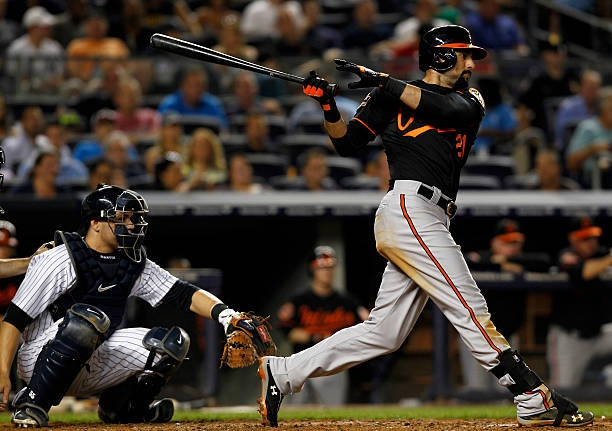bita: (152, 31, 336, 92)
